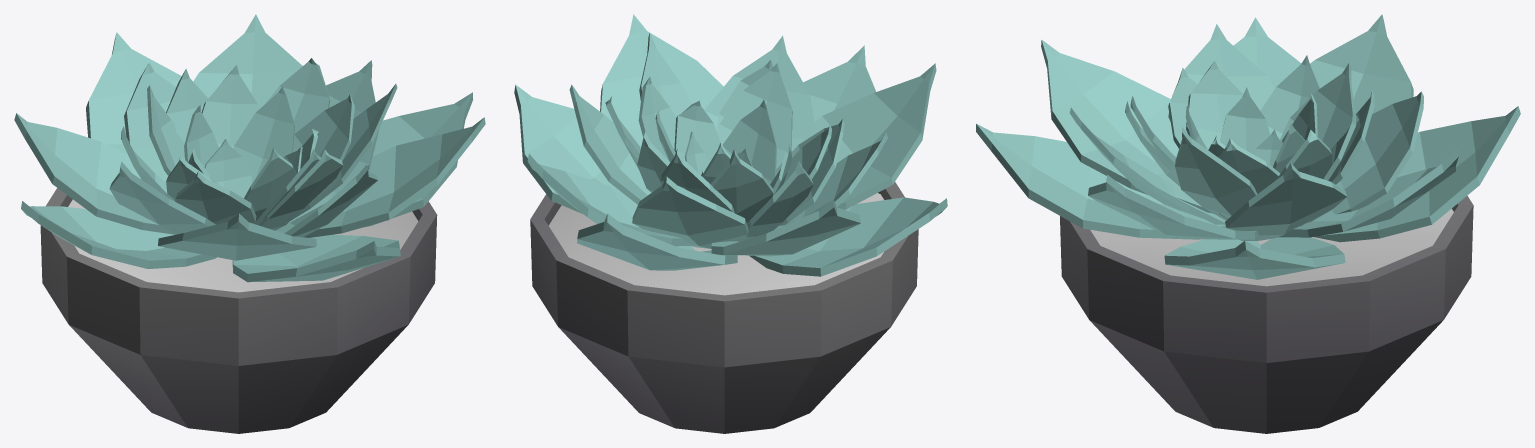
The model's file is Plant_16.fbx.
The picture shows the model from 3 angles, left to right: view 1: azimuth 30°, elevation 25°; view 2: azimuth 150°, elevation 25°; view 3: azimuth 270°, elevation 25°; orthographic projection. The views are drawn at different scales.
Parts seen in each view (by area): view 1: Plant_16; view 2: Plant_16; view 3: Plant_16.
Part boxes in pixels (bbox=[...]): Plant_16: bbox=[14, 14, 485, 433]; Plant_16: bbox=[514, 14, 947, 433]; Plant_16: bbox=[976, 14, 1520, 433].
Bounding box in the file's own units: 18.51 × 12.22 × 18.71.
